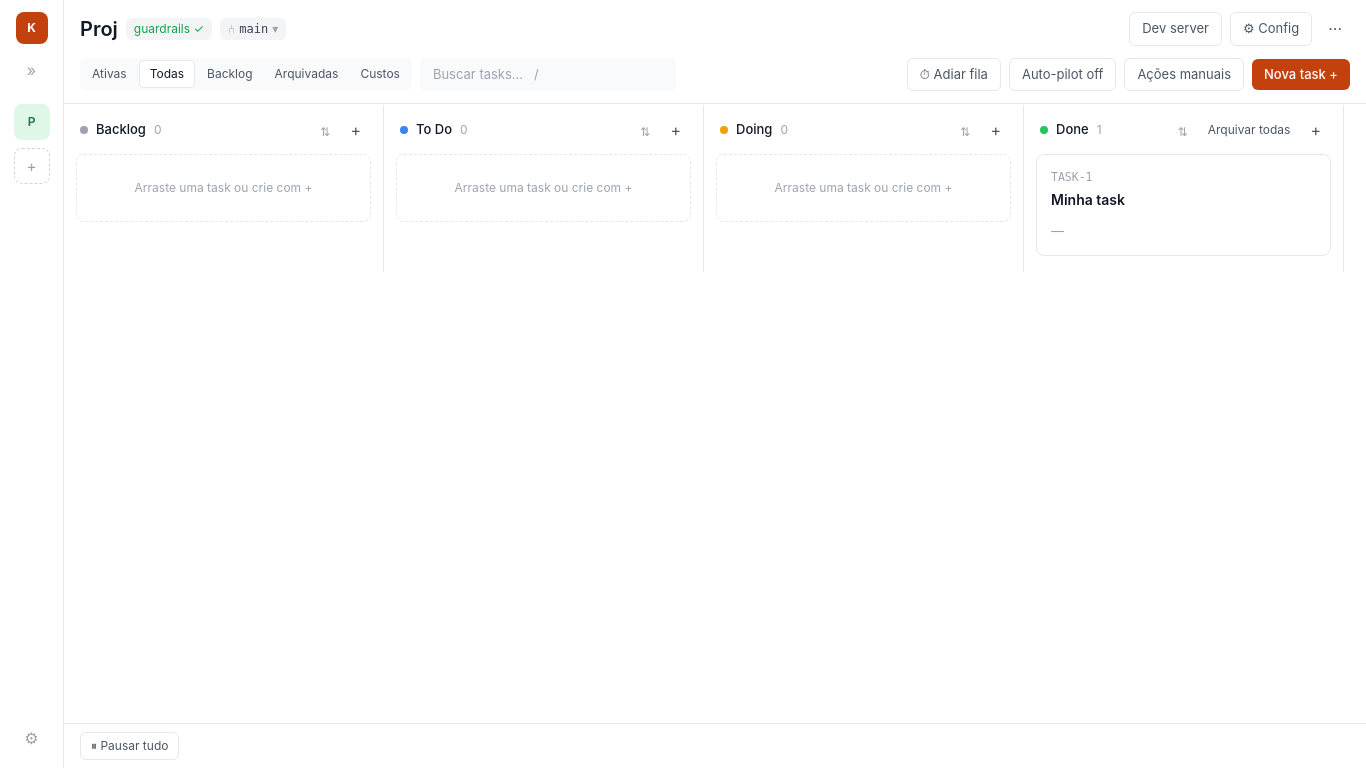
it: view de Custos › mostra totais, média, taxa de sucesso e o top de tasks caras
This screenshot has width=1366, height=768.
Expected: the text "Minha task" is shown, [1051,191,1125,208]
Click the button "Custos": (380, 74) [350,61,410,87]
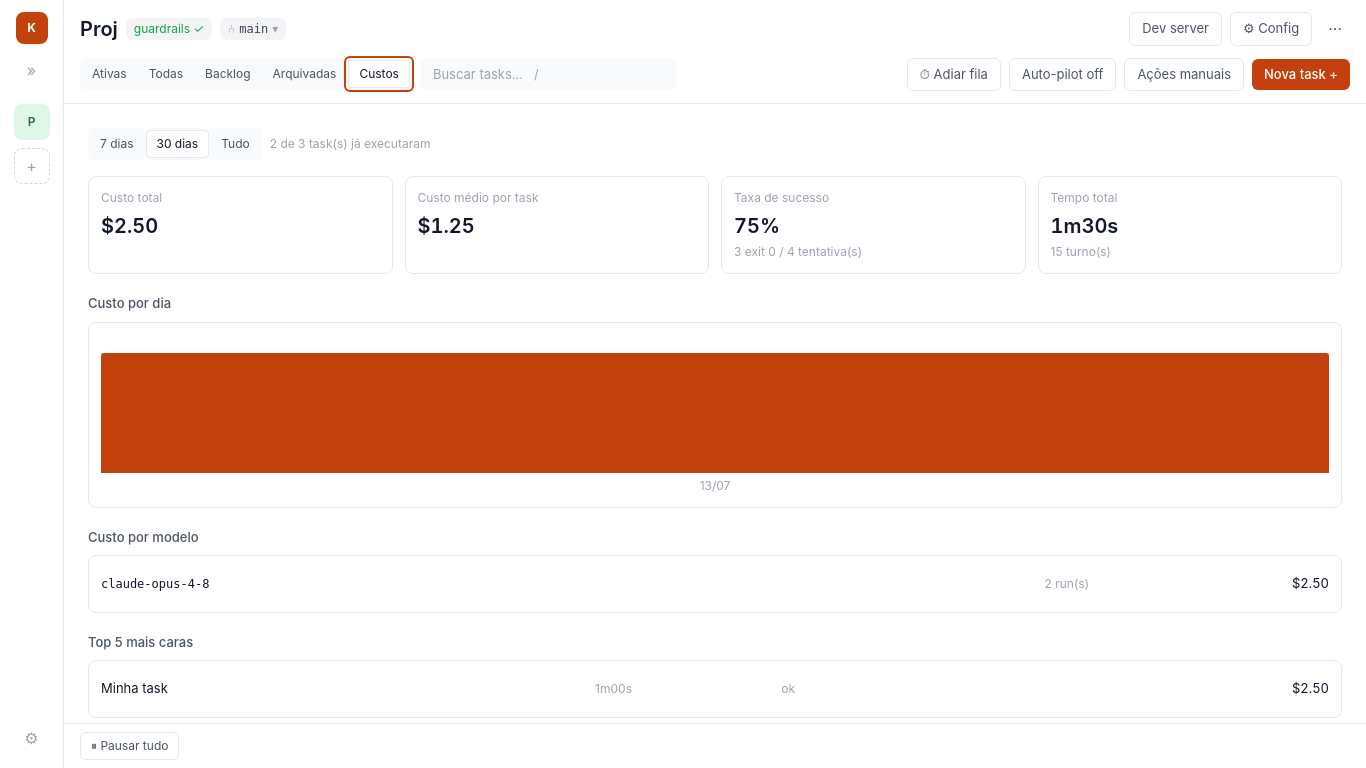
Now the text "Custo total" is shown, box [101,190,162,205]
Now the text "claude-opus-4-8" is shown, box [101,568,802,600]
Now the heading "Top 5 mais caras" is shown, box [88,634,193,650]
